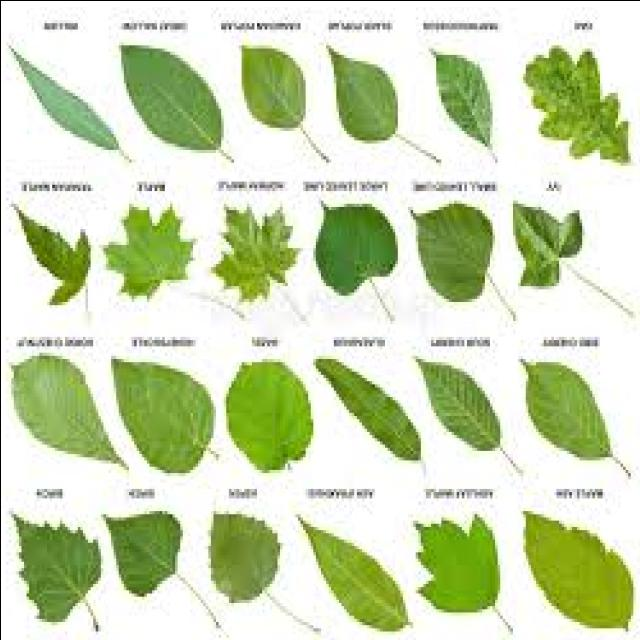leaves: (525, 512, 631, 627), (12, 356, 121, 464), (112, 361, 212, 473), (525, 51, 626, 160), (122, 47, 220, 150), (305, 526, 402, 628), (319, 359, 419, 457), (15, 56, 119, 149), (228, 362, 310, 470), (14, 517, 98, 618), (524, 362, 610, 457), (416, 517, 496, 611), (215, 209, 296, 301), (106, 208, 191, 295), (314, 206, 396, 295), (415, 205, 491, 301), (420, 361, 498, 448), (105, 512, 179, 595), (330, 51, 393, 142), (21, 218, 89, 299), (210, 515, 276, 598), (515, 205, 581, 284), (435, 56, 489, 145), (242, 48, 300, 128)
